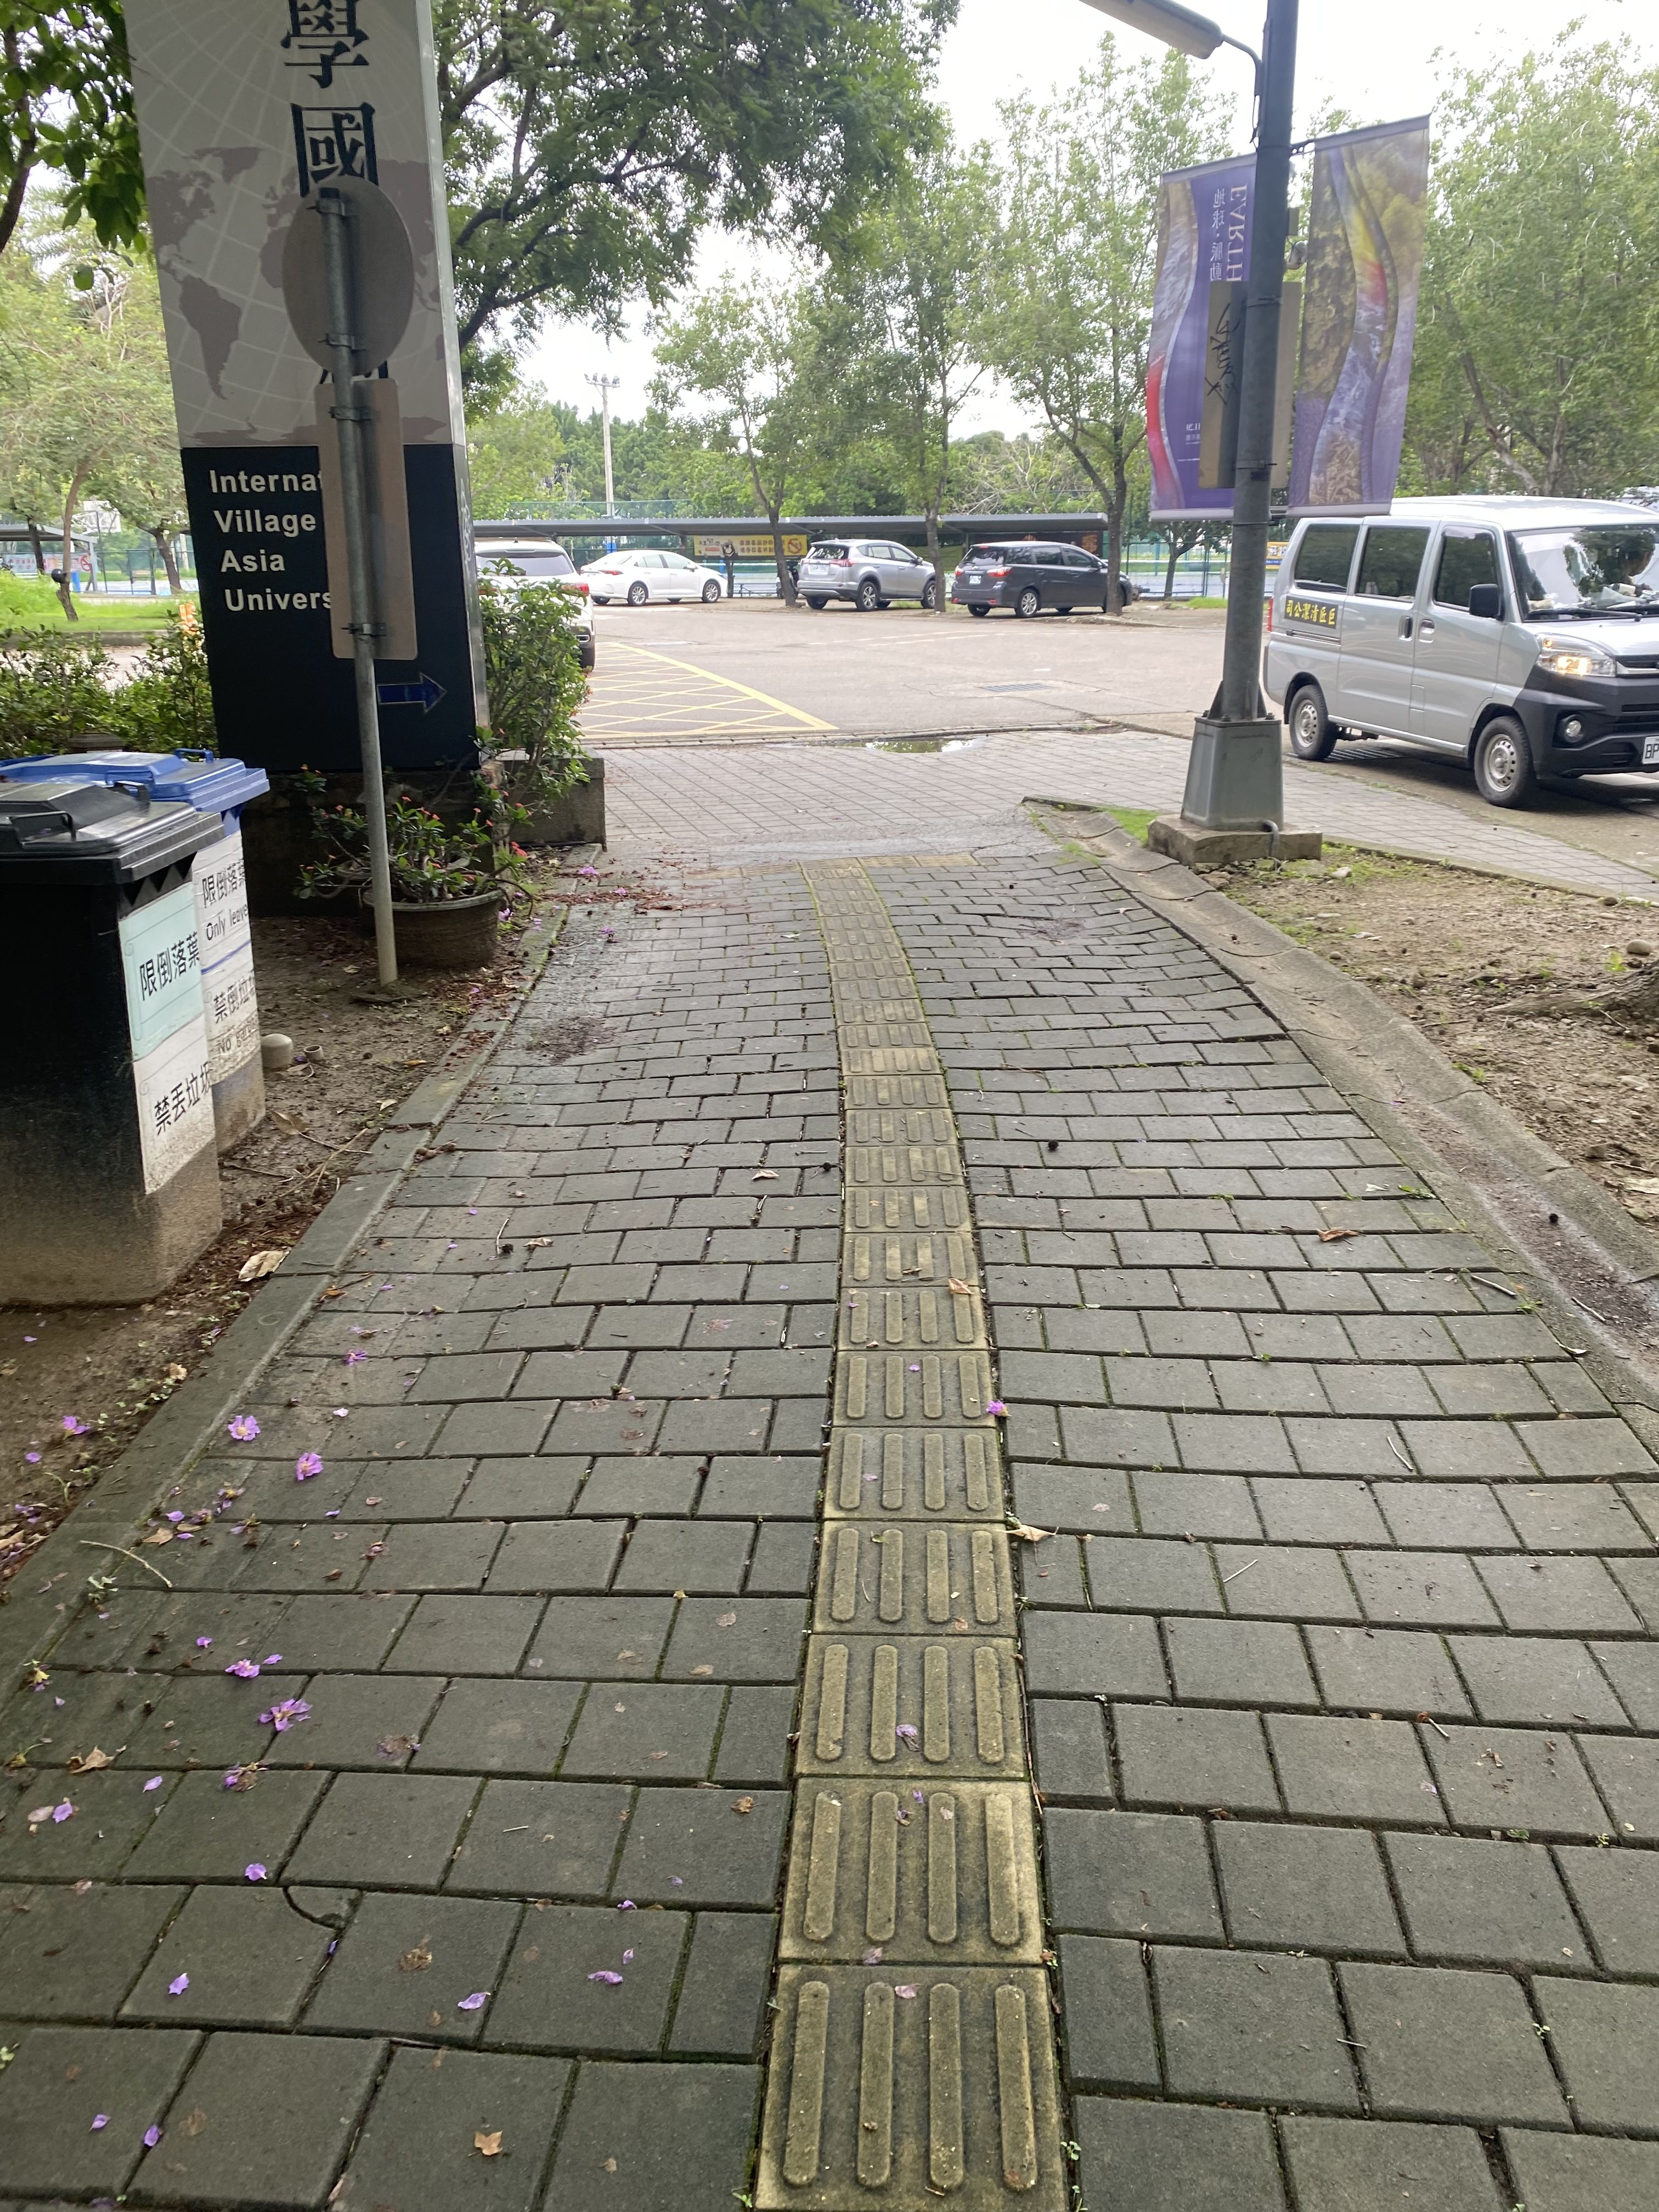sidewalk: (0, 721, 1659, 2212)
